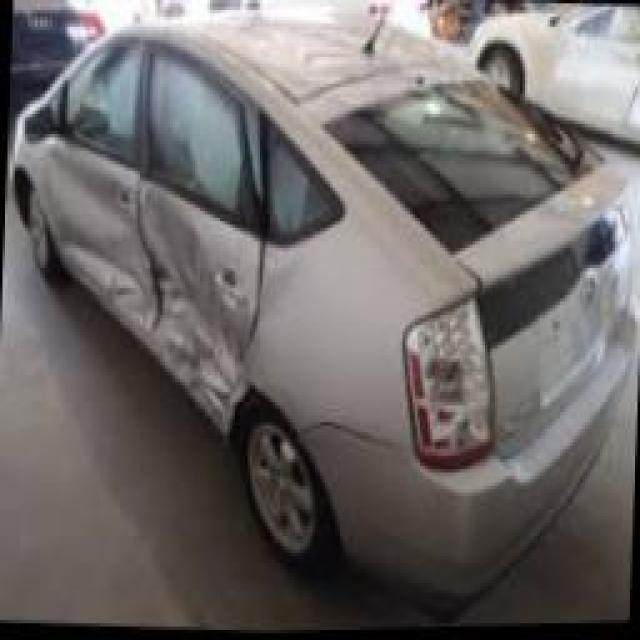Door: (137, 42, 263, 405)
